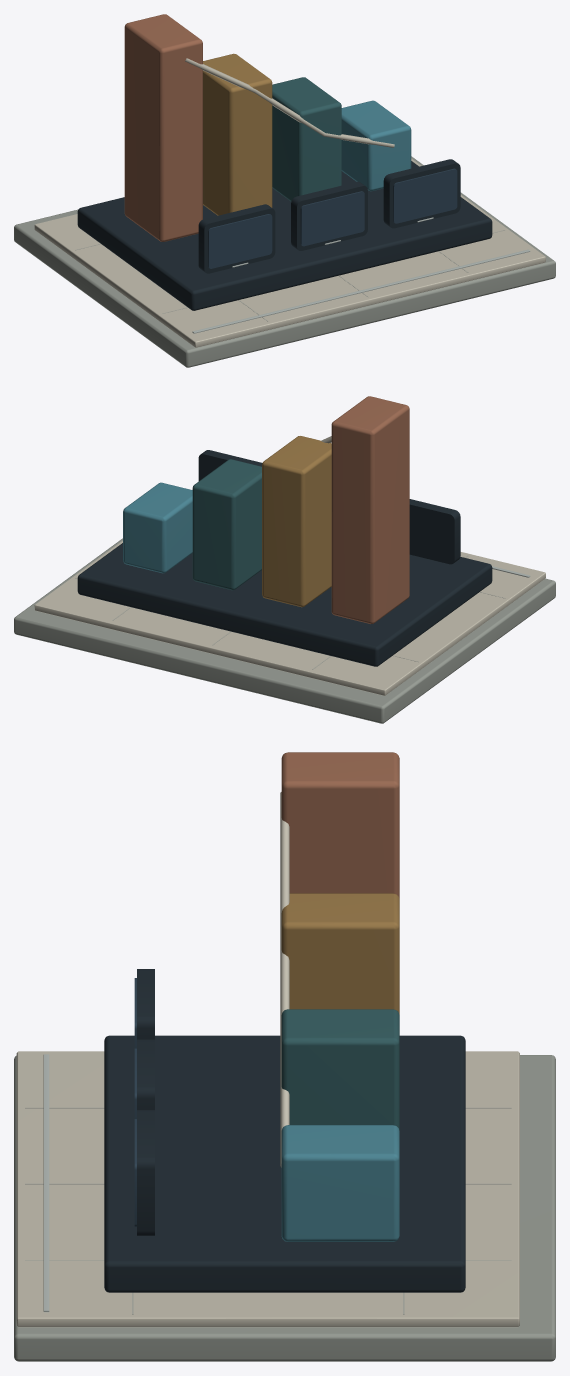
The model's file is idea-5c10448b.glb.
3 views of the same model, one above another, from view 1: azimuth 30°, elevation 25°; view 2: azimuth 150°, elevation 25°; view 3: azimuth 270°, elevation 25° (orthographic). The views are drawn at different scales.
Visible parts, largest first — view 1: Karmic Analytics Hub; view 2: Karmic Analytics Hub; view 3: Karmic Analytics Hub.
Part boxes in pixels (x1,y1,x2,y2): Karmic Analytics Hub: [14, 14, 555, 367]; Karmic Analytics Hub: [14, 396, 555, 723]; Karmic Analytics Hub: [14, 752, 555, 1361].
Size of the model in its own units: 4.8 by 2.99 by 3.9.
